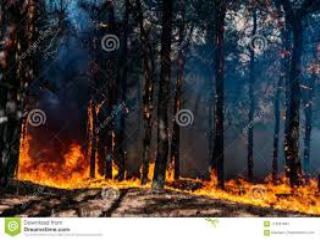smoke: (12, 131, 154, 186), (185, 162, 319, 214)
